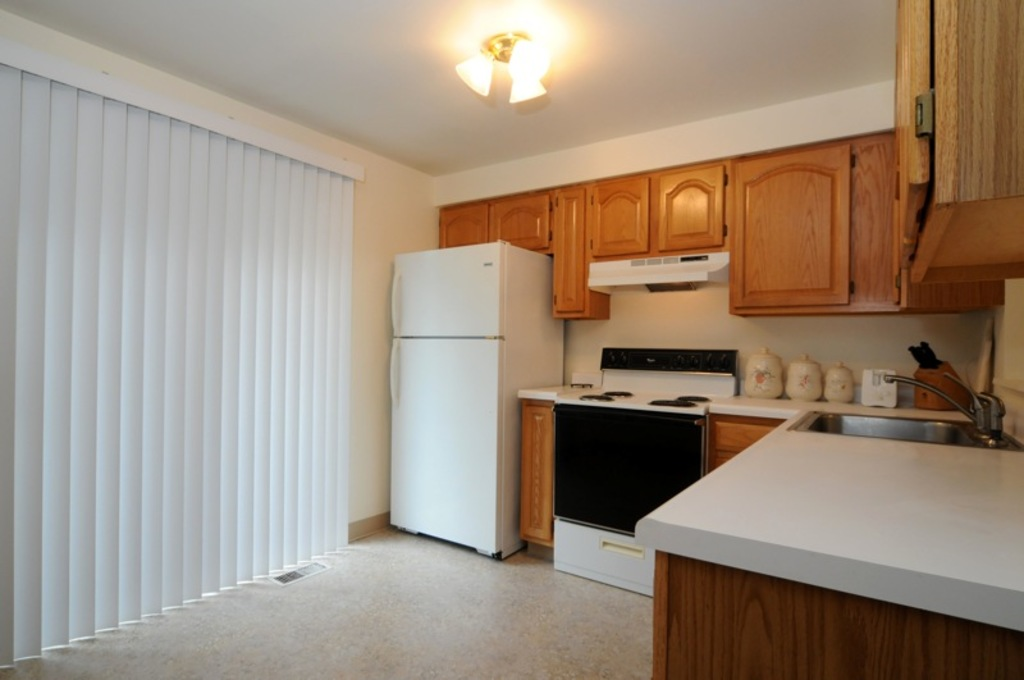cabinet door: (734, 167, 850, 306), (654, 177, 727, 248), (600, 184, 652, 255), (526, 401, 550, 536), (557, 193, 584, 310), (510, 205, 547, 245), (446, 209, 489, 243)
handle: (386, 343, 404, 396), (386, 272, 402, 328)
refrigerator door: (394, 347, 502, 542), (398, 257, 505, 334)
